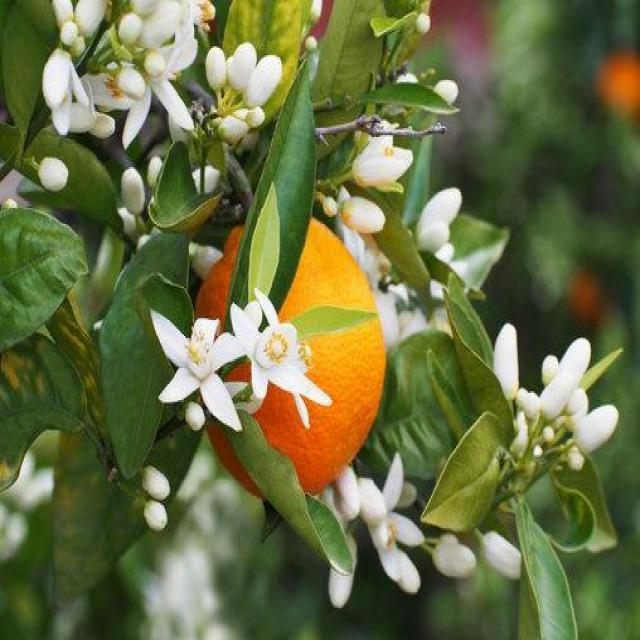Bunga: (232, 297, 329, 427), (152, 307, 245, 428), (368, 455, 421, 597), (540, 340, 592, 420), (412, 187, 464, 247), (352, 136, 408, 188), (328, 522, 357, 614), (574, 404, 625, 456), (478, 532, 524, 584), (429, 536, 482, 580), (244, 54, 284, 108), (340, 196, 387, 237), (495, 322, 519, 394), (42, 46, 70, 107), (219, 109, 265, 142), (332, 467, 360, 521), (121, 165, 147, 215), (203, 42, 228, 92), (230, 38, 254, 90), (74, 0, 107, 36), (111, 68, 147, 100), (140, 462, 170, 500), (36, 157, 70, 190), (52, 0, 74, 41), (144, 496, 166, 534), (121, 10, 144, 46), (420, 224, 450, 251), (182, 398, 205, 432), (126, 0, 160, 21), (436, 76, 458, 106), (59, 22, 78, 46)
Jeruk Sudah Matang: (202, 213, 386, 491)
